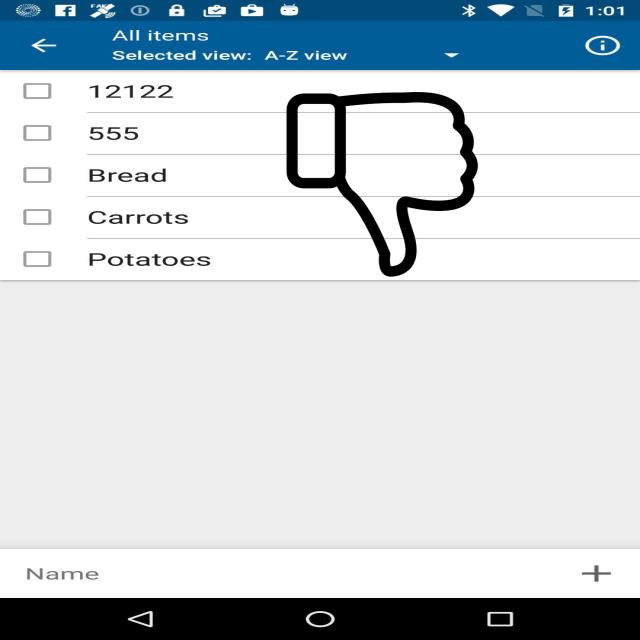obstruction: (284, 92, 480, 277)
